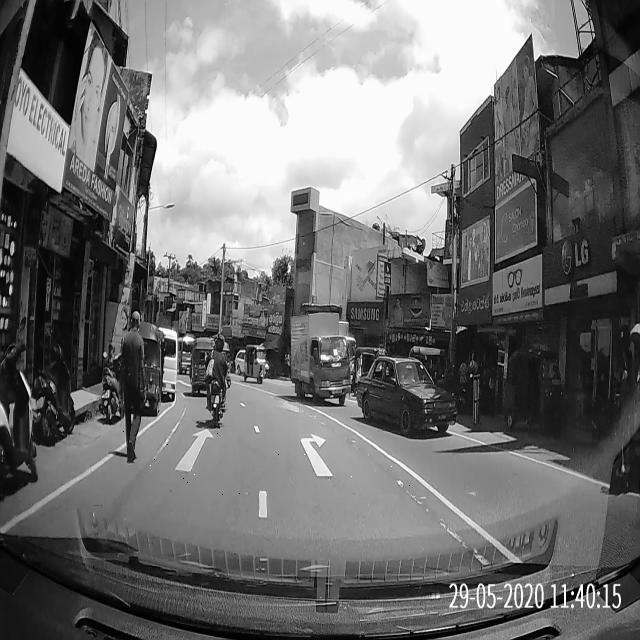forward: (93, 420, 266, 498)
right: (259, 426, 431, 504)
